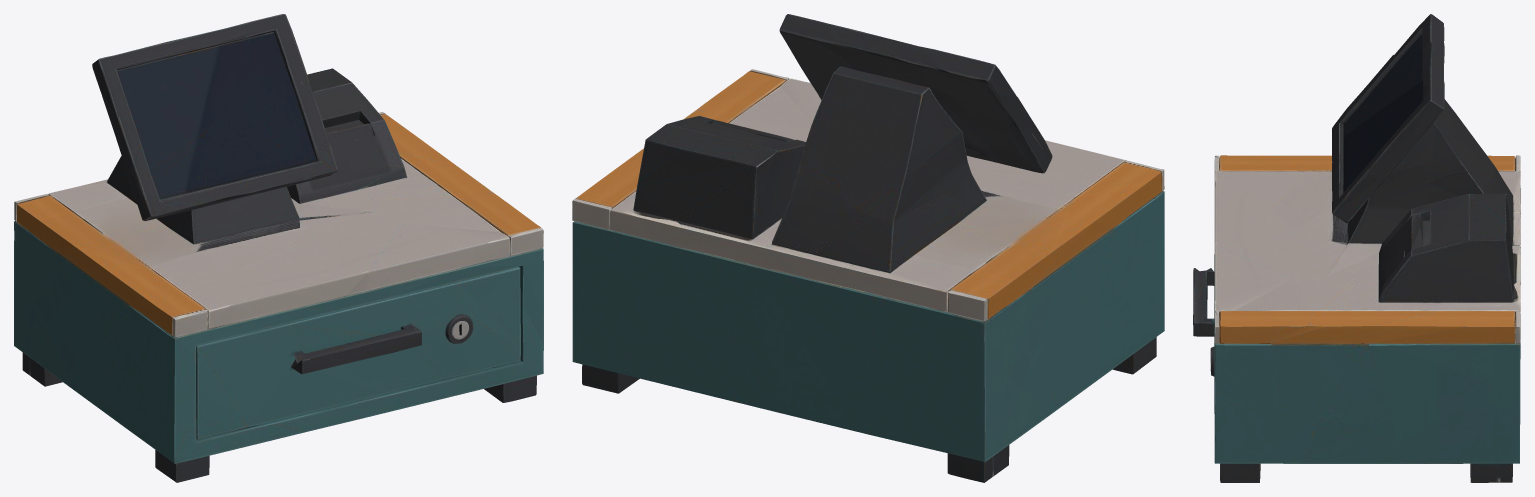
The model's file is register.glb.
3 renders of one model, left to right at view 1: azimuth 30°, elevation 25°; view 2: azimuth 150°, elevation 25°; view 3: azimuth 270°, elevation 25°, orthographic. The views are drawn at different scales.
Visible parts, largest first — view 1: Mesh_0; view 2: Mesh_0; view 3: Mesh_0.
Boxes of the visible parts, <box> form: Mesh_0: <box>14,14,543,482</box>; Mesh_0: <box>572,14,1164,482</box>; Mesh_0: <box>1193,14,1520,482</box>.
Size of the model in its own units: 0.45 by 0.3901 by 0.3639.
Materials: 1 (1 with a texture image).
